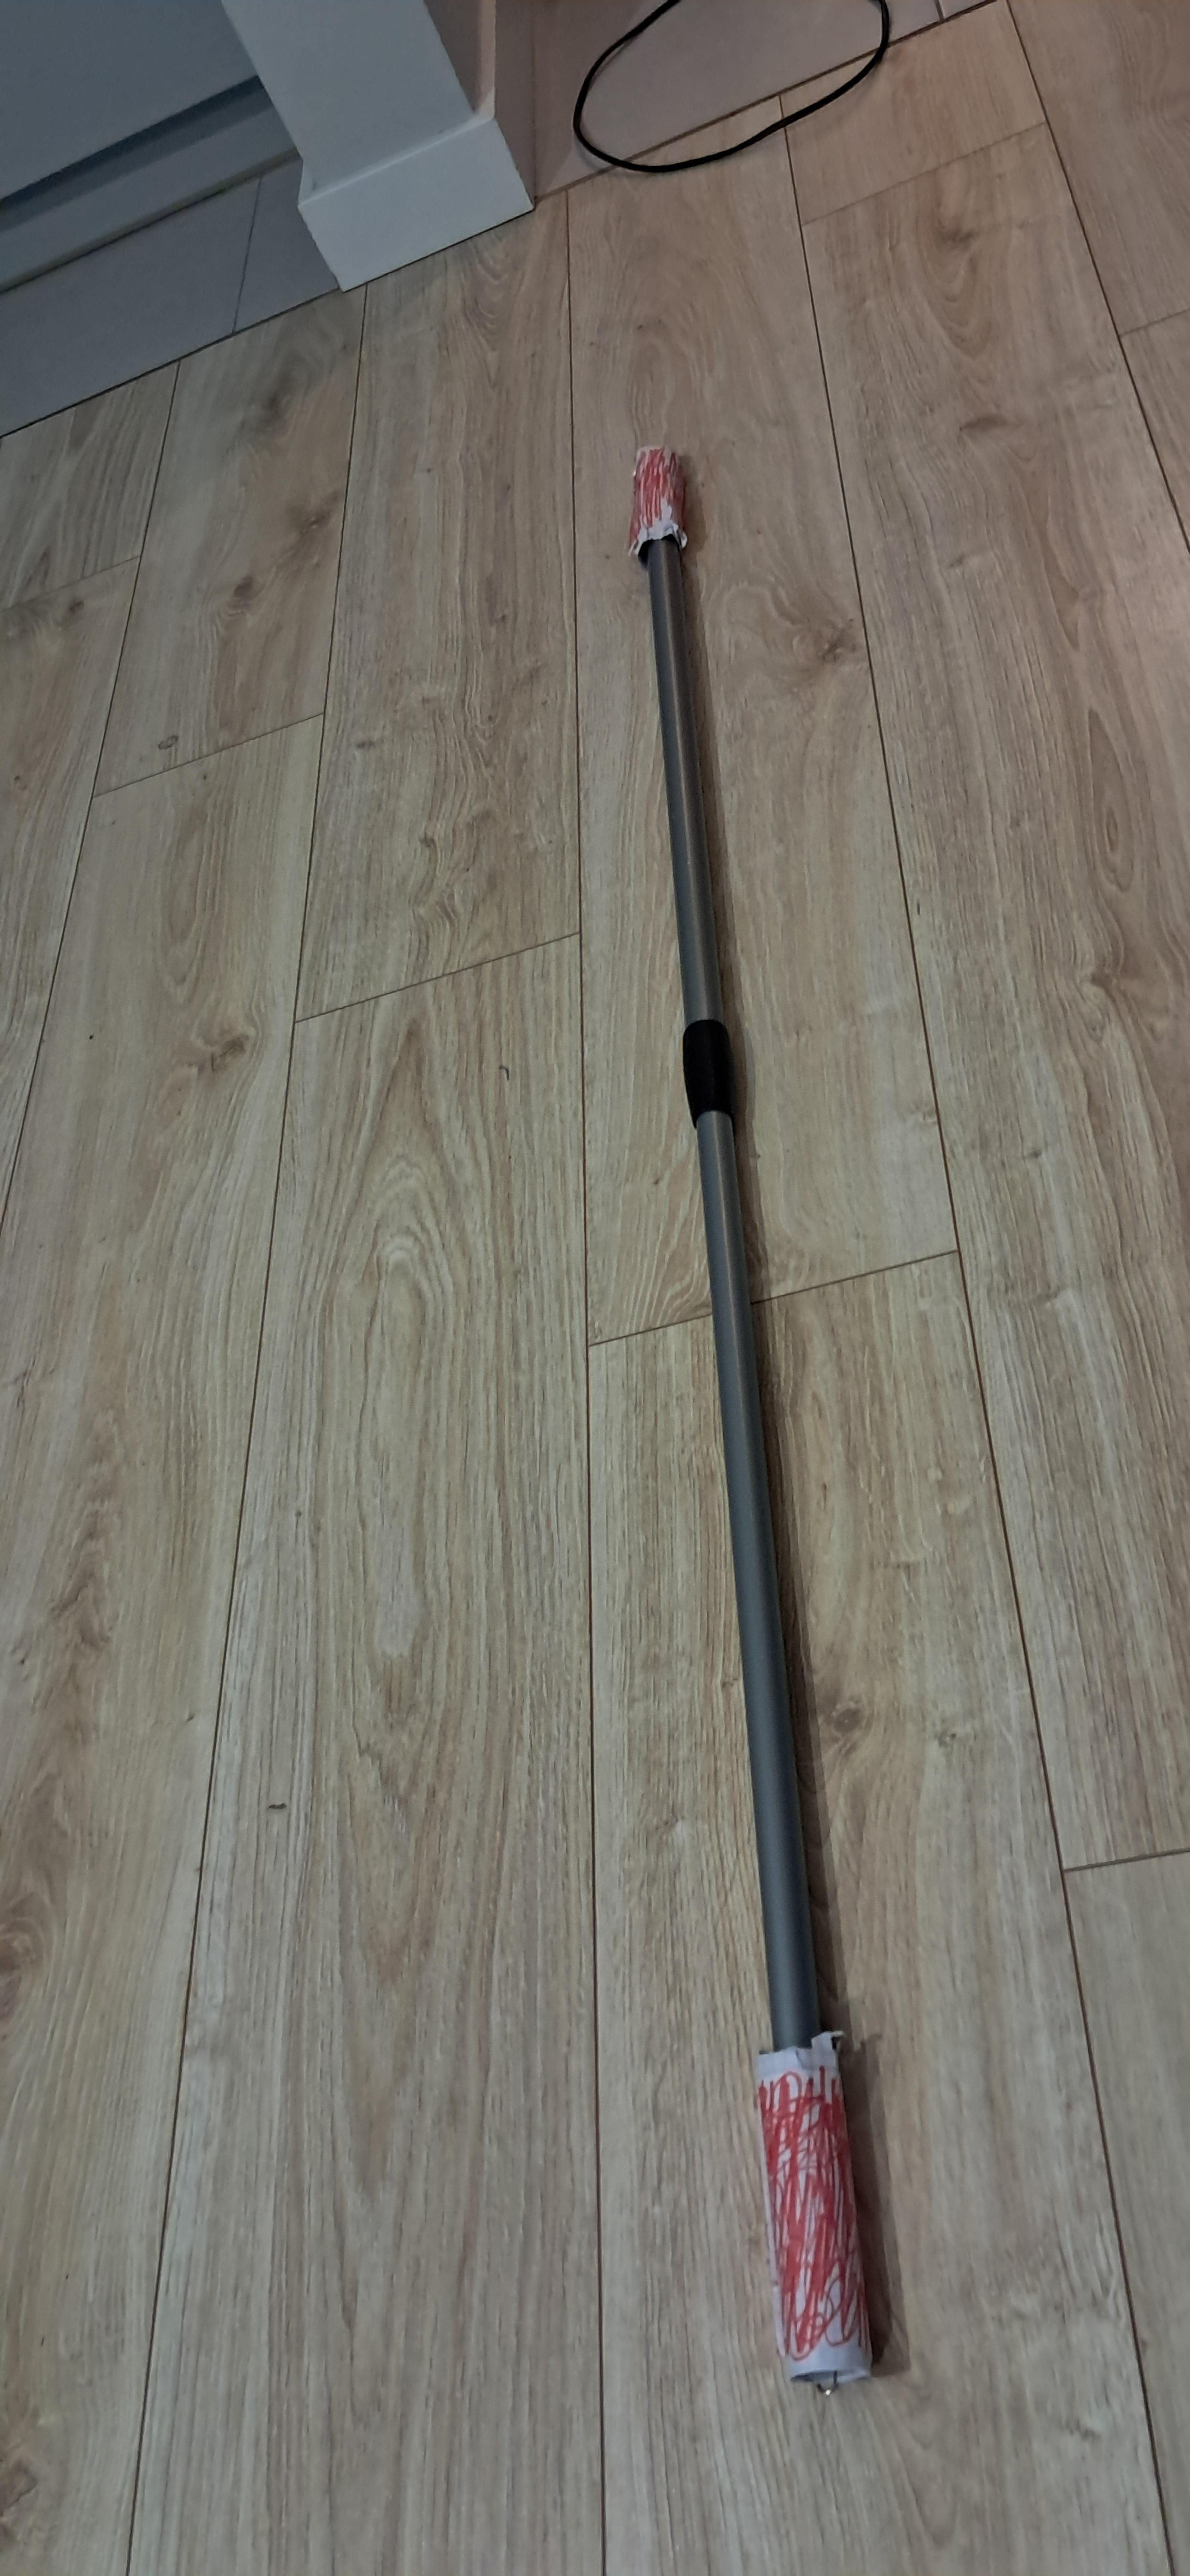broom-handle: (630, 447, 869, 2387)
